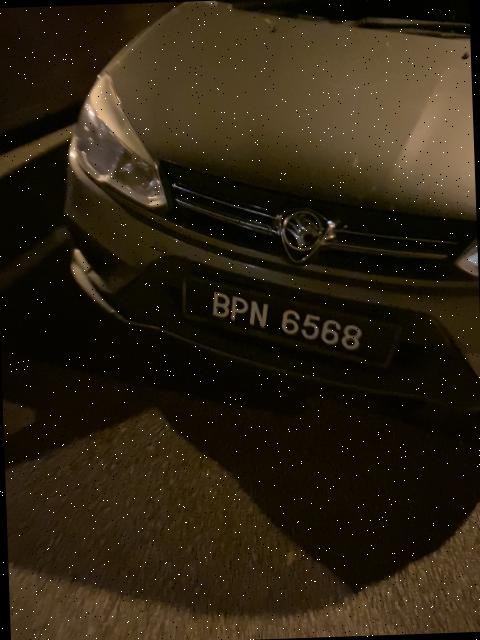License_Plate: (179, 266, 406, 387)
car: (44, 1, 480, 450)
